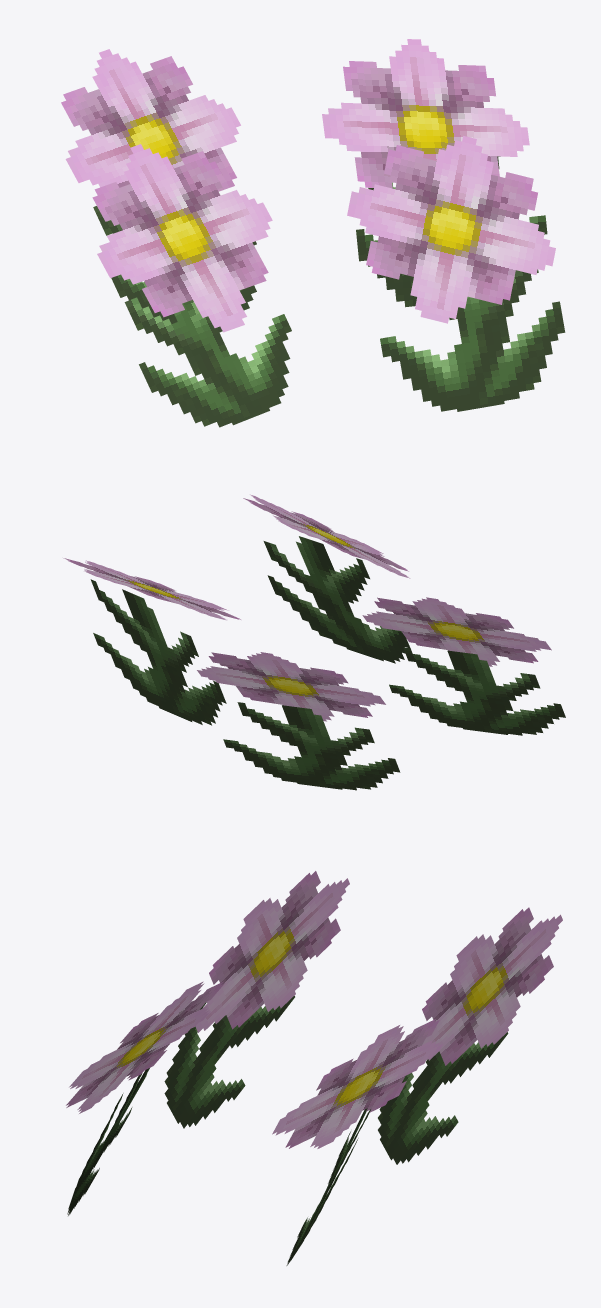
The model's file is Flower_001.fbx.
3 renders of one model, top to bottom at view 1: azimuth 30°, elevation 25°; view 2: azimuth 150°, elevation 25°; view 3: azimuth 270°, elevation 25°, orthographic. The views are drawn at different scales.
Visible parts, largest first — view 1: It_019_Flower_001; view 2: It_019_Flower_001; view 3: It_019_Flower_001.
Boxes of the visible parts, left/top/right/bottom form: It_019_Flower_001: left=61, top=39, right=565, bottom=427; It_019_Flower_001: left=63, top=494, right=565, bottom=790; It_019_Flower_001: left=66, top=871, right=562, bottom=1265.
Size of the model in its own units: 0.9733 by 0.4398 by 0.9232.
